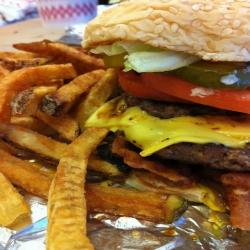burger: (86, 1, 250, 228)
fries: (4, 43, 106, 225)
